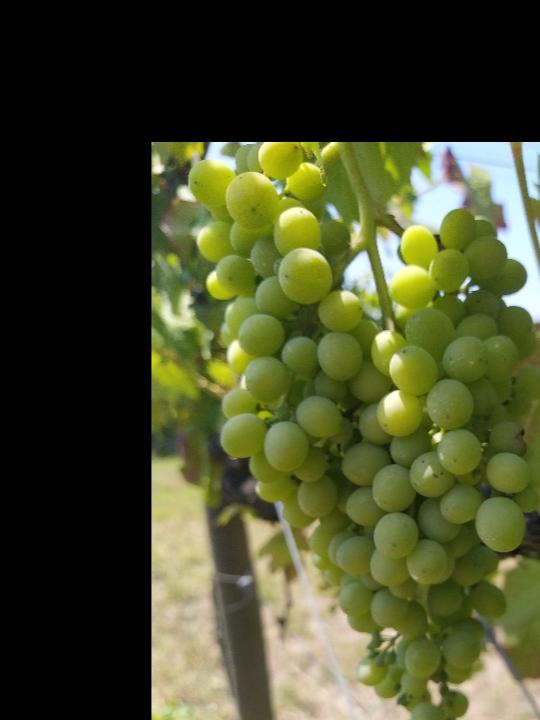grape: (184, 145, 536, 720)
